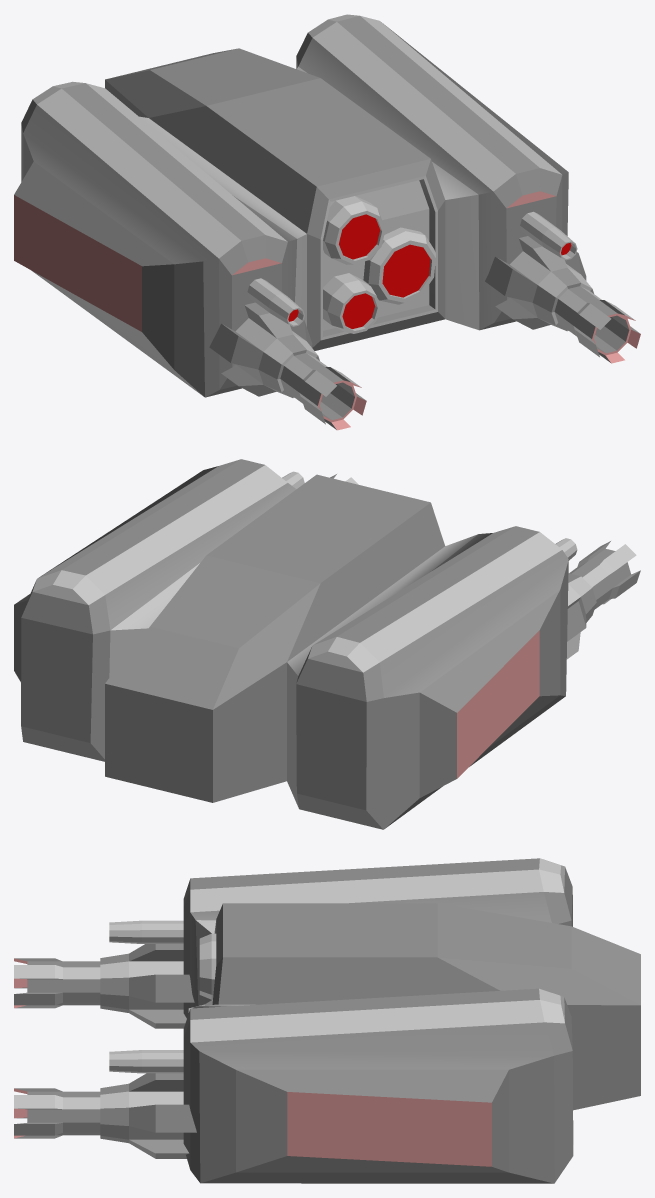
The model's file is advancedDroneHead.fbx.
The picture shows the model from 3 angles, top to bottom: view 1: azimuth 30°, elevation 25°; view 2: azimuth 150°, elevation 25°; view 3: azimuth 270°, elevation 25°; orthographic projection. The views are drawn at different scales.
Parts seen in each view (by area): view 1: advancedDroneHead; view 2: advancedDroneHead; view 3: advancedDroneHead.
Boxes of the visible parts, x1,y1,x2,y2 form: advancedDroneHead: (14,14,640,430); advancedDroneHead: (14,459,640,829); advancedDroneHead: (14,858,640,1183).
Bounding box in the file's own units: 4.07 × 1.87 × 5.13.
